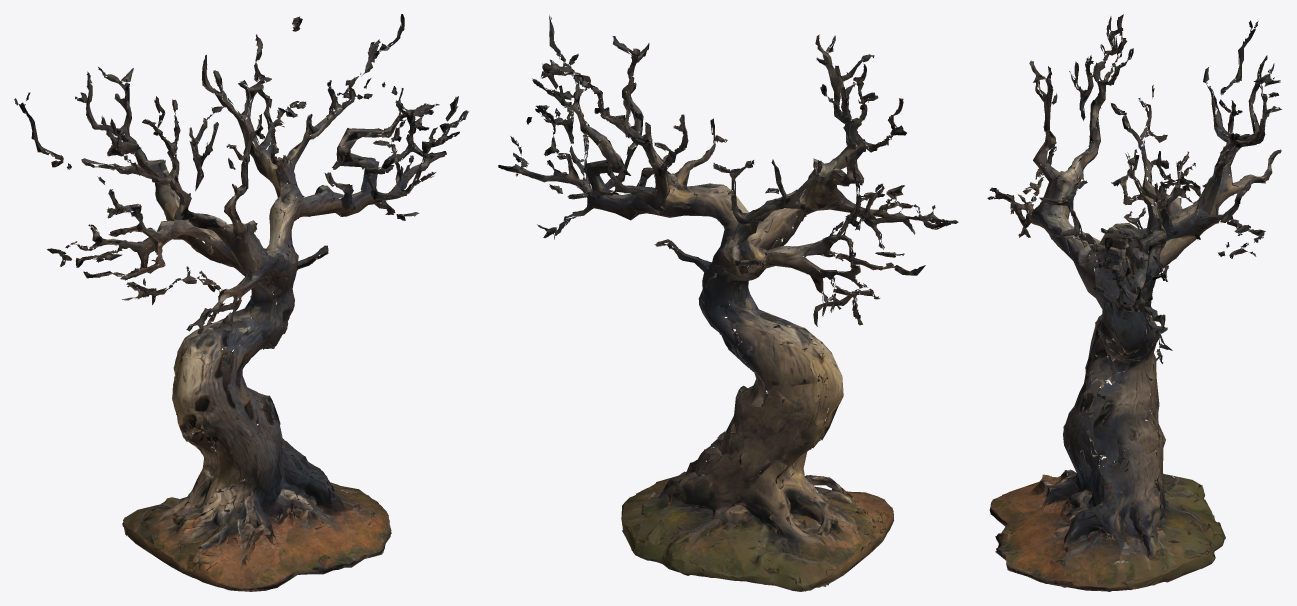
The model's file is tree3.glb.
3 renders of one model, left to right at view 1: azimuth 30°, elevation 25°; view 2: azimuth 150°, elevation 25°; view 3: azimuth 270°, elevation 25°, orthographic. The views are drawn at different scales.
Parts seen in each view (by area): view 1: Mesh_0; view 2: Mesh_0; view 3: Mesh_0.
Part boxes in pixels (bbox=[...]): Mesh_0: bbox=[14, 14, 468, 591]; Mesh_0: bbox=[498, 15, 958, 591]; Mesh_0: bbox=[987, 14, 1281, 591].
Bounding box in the file's own units: 1.7 × 1.96 × 1.12.
1 material, 1 textured.
